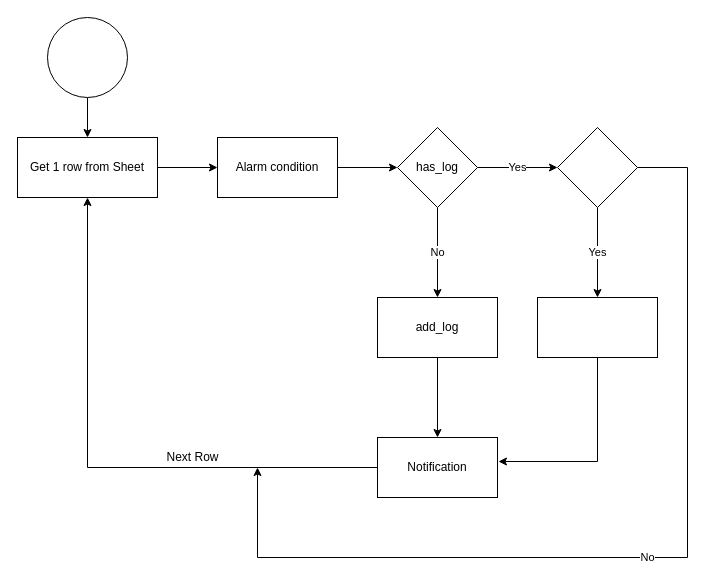
Image size: 713x583. Some labels were removed from this diagram. Here are the shapes that lost their labels. From the top down, the centre of each, then its label:
the point at 87,57: Start
the point at 597,167: is_sent
the point at 597,327: update_log
